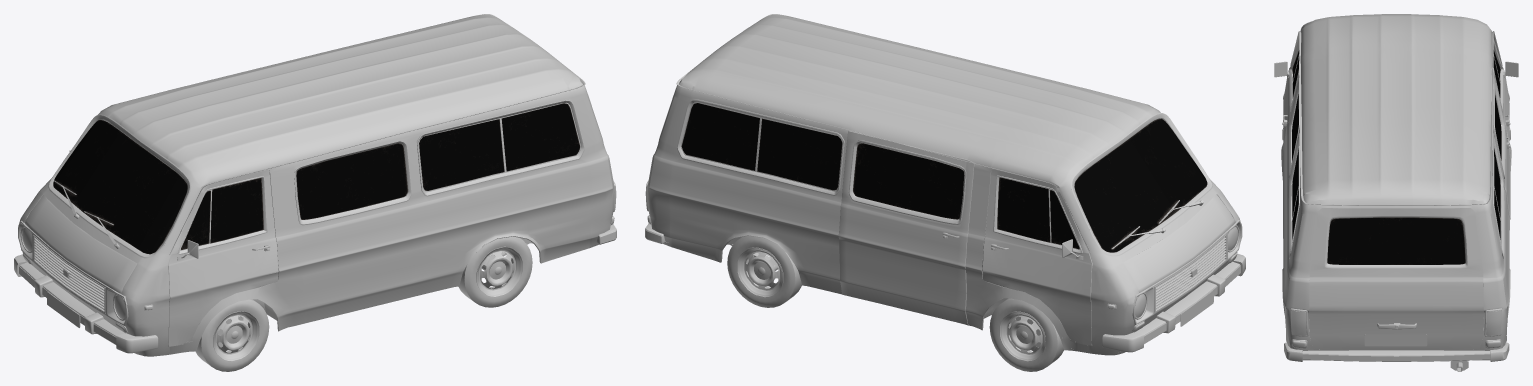
File: car3.fbx
3 views of the same model, side by side, from view 1: azimuth 30°, elevation 25°; view 2: azimuth 150°, elevation 25°; view 3: azimuth 270°, elevation 25° (orthographic). The views are drawn at different scales.
Parts seen in each view (by area): view 1: car3_LOD0; view 2: car3_LOD0; view 3: car3_LOD0.
Boxes of the visible parts, x1,y1,x2,y2 form: car3_LOD0: (14, 14, 616, 371); car3_LOD0: (645, 14, 1245, 371); car3_LOD0: (1274, 14, 1518, 371).
Size of what is drawn, in the model's own units: 487 by 195 by 214.
